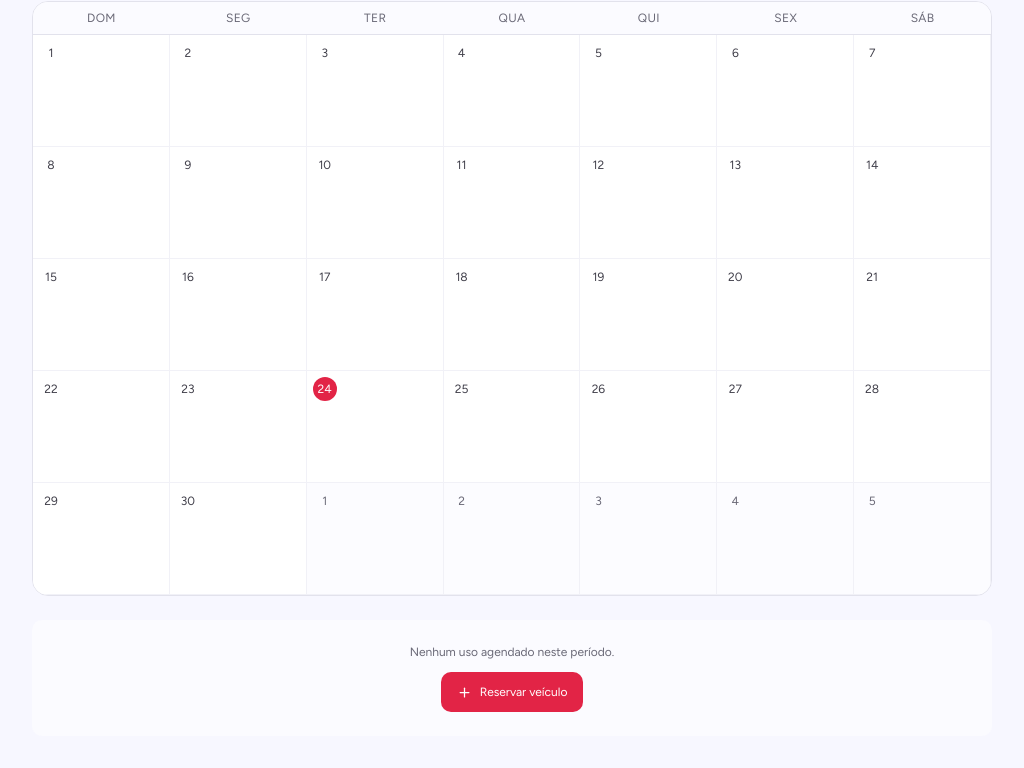
Test: Agenda: erro e vazio › vazio: traz o botão 'Reservar veículo' junto do aviso
This screenshot has width=1024, height=768.
(page scrolled)
Click the button "Reservar veículo".
click(512, 692)  # box left=441, top=672, right=583, bottom=712
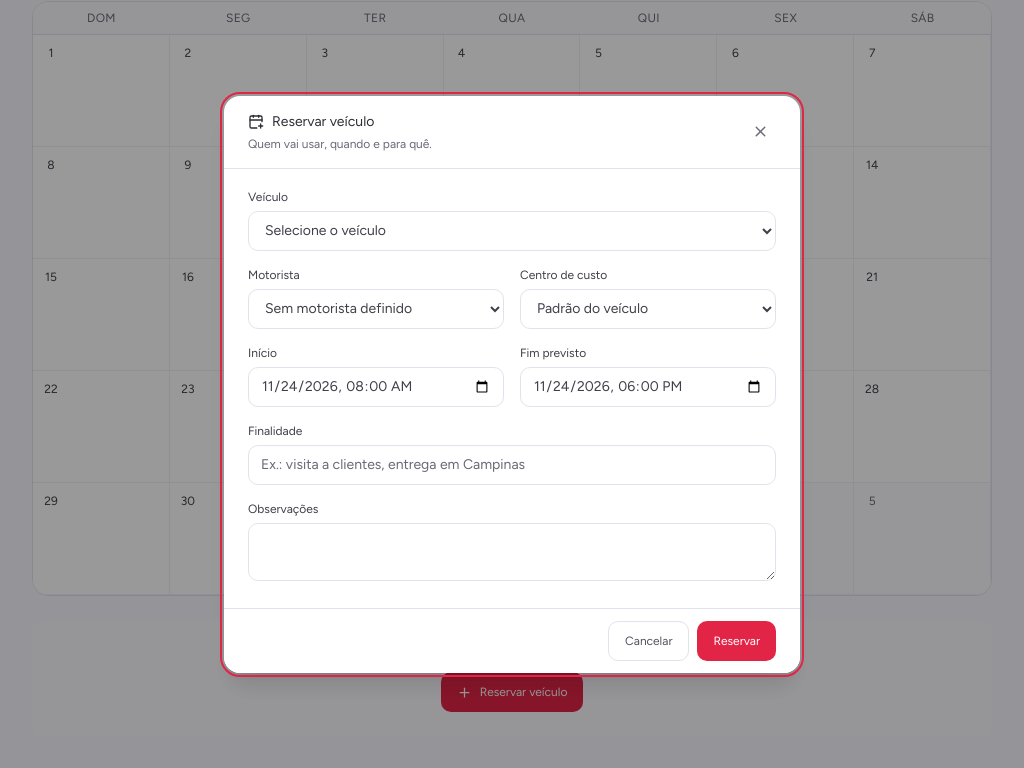
Expected: the dialog is shown, left=224, top=96, right=800, bottom=672
